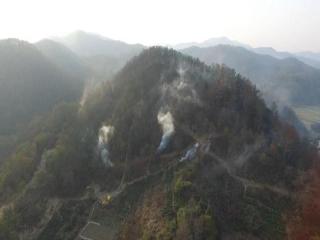smoke: (94, 66, 205, 169)
